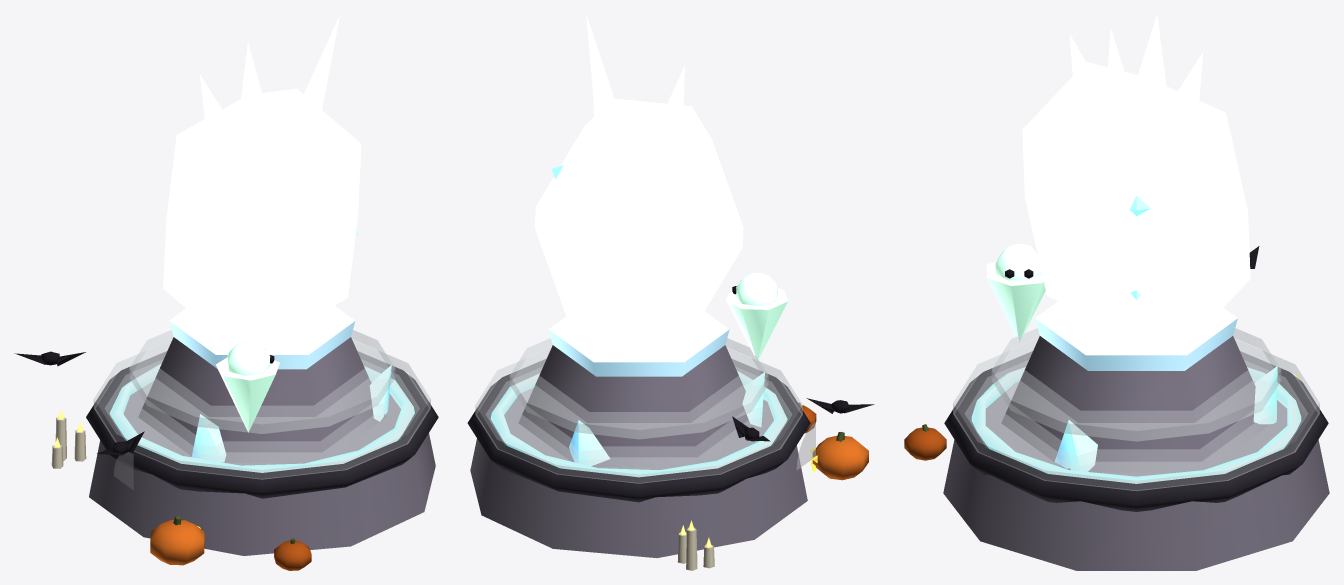
Rendered from tower_freeze_absoluteZero.glb.
The picture shows the model from 3 angles, left to right: view 1: azimuth 30°, elevation 25°; view 2: azimuth 150°, elevation 25°; view 3: azimuth 270°, elevation 25°; orthographic projection. The views are drawn at different scales.
Parts seen in each view (by area): view 1: glacier, base, pedestal, frost_fog, base_rim, frost_fog_b, pedestal_frost, aura_ring, deco_hw_jack_body, deco_hw_ghost_sheet, glacier_spike_0, deco_hw_ghost_head (+7 smaller); view 2: glacier, base, pedestal, frost_fog, base_rim, frost_fog_b, pedestal_frost, aura_ring, deco_hw_ghost_sheet, deco_hw_jack_body, deco_hw_ghost_head, side_crystal_2 (+6 smaller); view 3: glacier, base, pedestal, frost_fog, base_rim, frost_fog_b, pedestal_frost, aura_ring, deco_hw_ghost_sheet, glacier_spike_0, side_crystal_0, deco_hw_ghost_head (+5 smaller).
Part boxes in pixels (box(x1,y1,x2,y2)): glacier: box(163, 88, 361, 340); base: box(89, 381, 435, 555); pedestal: box(138, 337, 385, 462); frost_fog: box(93, 340, 430, 479); base_rim: box(86, 351, 438, 498); frost_fog_b: box(129, 330, 395, 433); pedestal_frost: box(169, 305, 355, 369); aura_ring: box(110, 364, 414, 472); deco_hw_jack_body: box(150, 519, 204, 565); deco_hw_ghost_sheet: box(215, 357, 279, 432); glacier_spike_0: box(301, 14, 340, 118); deco_hw_ghost_head: box(227, 341, 270, 375); glacier: box(534, 98, 743, 347); base: box(470, 388, 807, 557); pedestal: box(518, 345, 755, 467); frost_fog: box(475, 348, 802, 483); base_rim: box(467, 359, 810, 502); frost_fog_b: box(509, 338, 768, 439); pedestal_frost: box(548, 311, 729, 376); aura_ring: box(490, 371, 787, 477); deco_hw_ghost_sheet: box(725, 288, 787, 360); deco_hw_jack_body: box(812, 435, 868, 480); deco_hw_ghost_head: box(735, 272, 777, 306); side_crystal_2: box(569, 420, 609, 466); glacier: box(1022, 62, 1250, 342); base: box(943, 382, 1329, 570); pedestal: box(1001, 336, 1269, 472); frost_fog: box(953, 339, 1319, 491); base_rim: box(944, 351, 1328, 511); frost_fog_b: box(991, 328, 1281, 441); pedestal_frost: box(1035, 301, 1237, 370); aura_ring: box(971, 367, 1301, 483); deco_hw_ghost_sheet: box(986, 261, 1045, 342); glacier_spike_0: box(1104, 28, 1136, 129); side_crystal_0: box(1054, 420, 1097, 471); deco_hw_ghost_head: box(995, 243, 1041, 280).
Bounding box in the file's own units: 0.4655 × 0.5724 × 0.4404.
